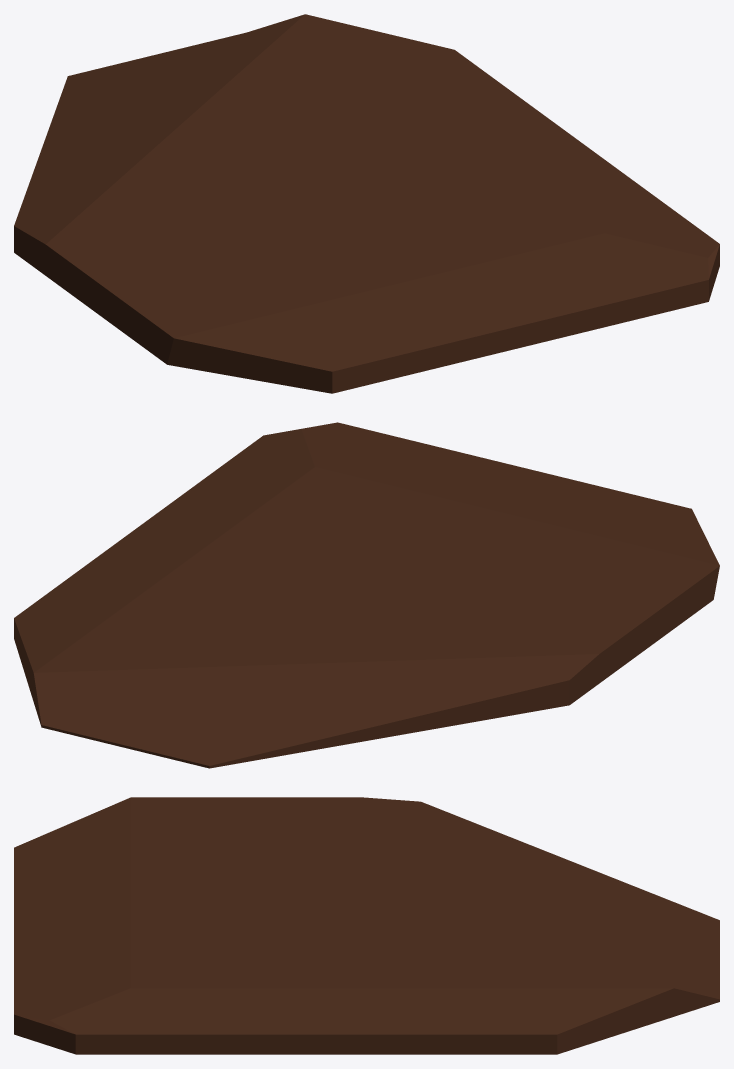
File: adobo 3rd stage sauce plating.fbx
3 views of the same model, one above another, from view 1: azimuth 30°, elevation 25°; view 2: azimuth 150°, elevation 25°; view 3: azimuth 270°, elevation 25° (orthographic). The views are drawn at different scales.
Parts seen in each view (by area): view 1: Cube; view 2: Cube; view 3: Cube.
Part boxes in pixels (left/top/right/bottom): Cube: left=14, top=14, right=719, bottom=393; Cube: left=14, top=422, right=719, bottom=768; Cube: left=14, top=797, right=719, bottom=1054.
Size of the model in its own units: 105 by 6.12 by 137.
